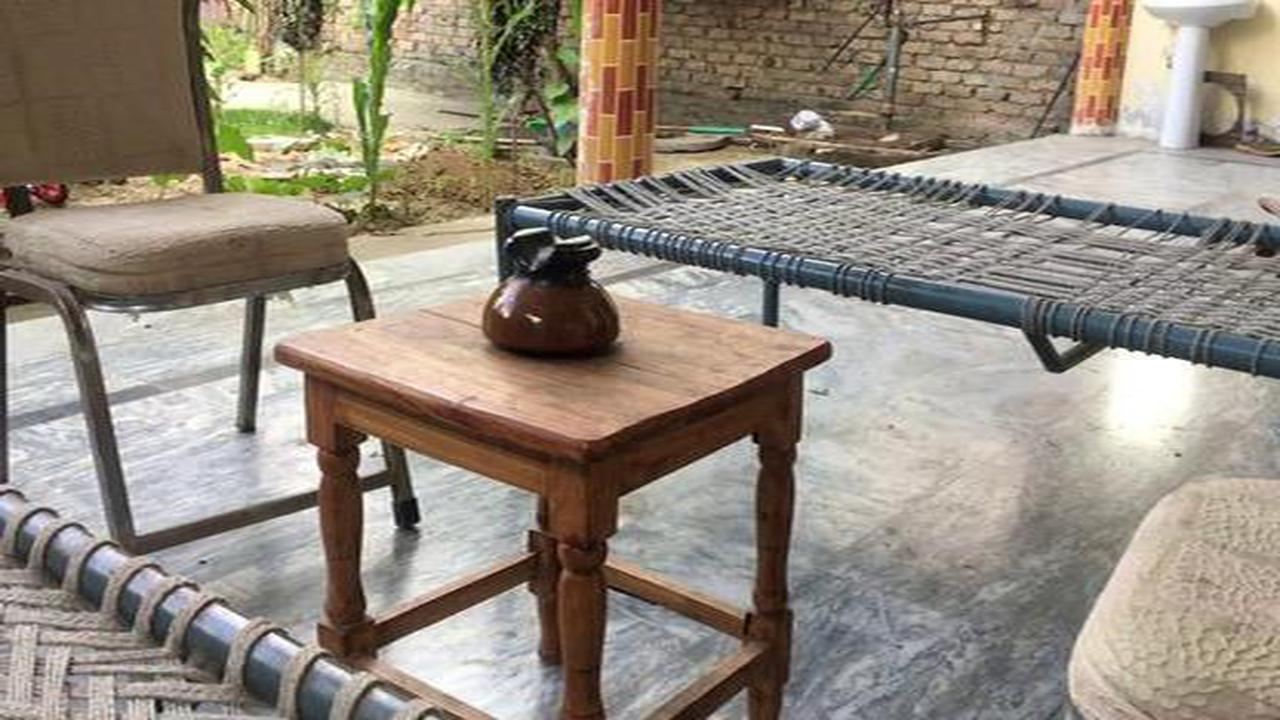insulator_pin: (471, 219, 637, 366)
